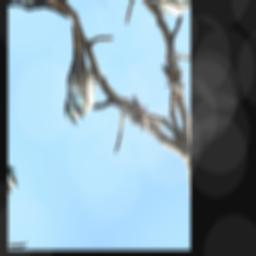Swallow: (34, 21, 112, 131)
